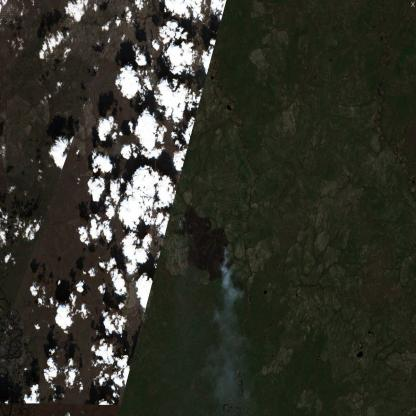fire: (176, 203, 244, 295)
